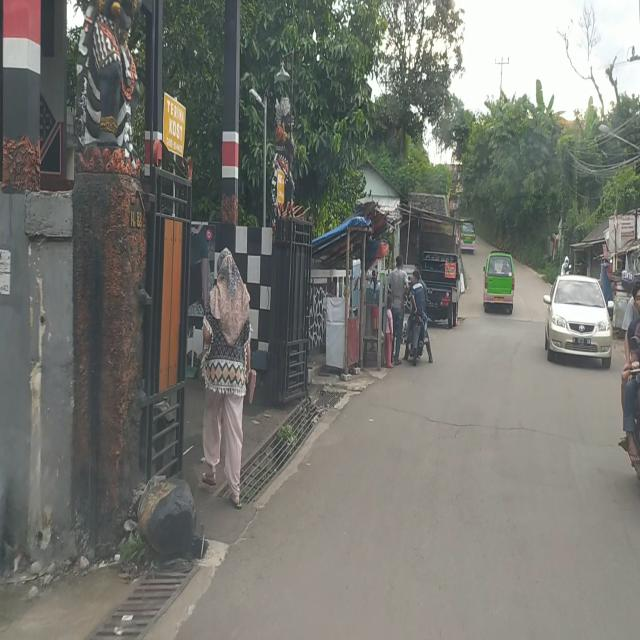Sewer Cover: (362, 398, 605, 444)
